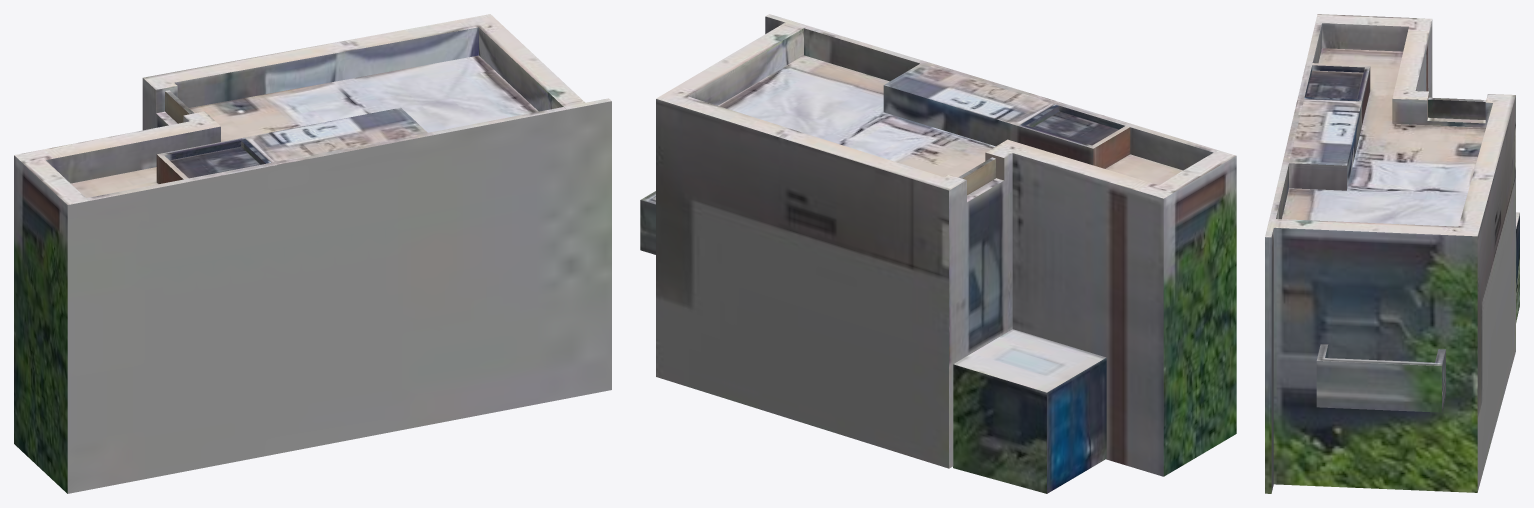
3 views of the same model, side by side, from view 1: azimuth 30°, elevation 25°; view 2: azimuth 150°, elevation 25°; view 3: azimuth 270°, elevation 25° (orthographic). The views are drawn at different scales.
Parts seen in each view (by area): view 1: B286044037201062A0; view 2: B286044037201062A0; view 3: B286044037201062A0.
Part boxes in pixels (<box>): B286044037201062A0: <box>14,14,611,493</box>; B286044037201062A0: <box>640,14,1236,493</box>; B286044037201062A0: <box>1265,14,1519,493</box>.
Bounding box in the file's own units: 16.55 × 8.37 × 7.49.
1 material, 1 textured.
